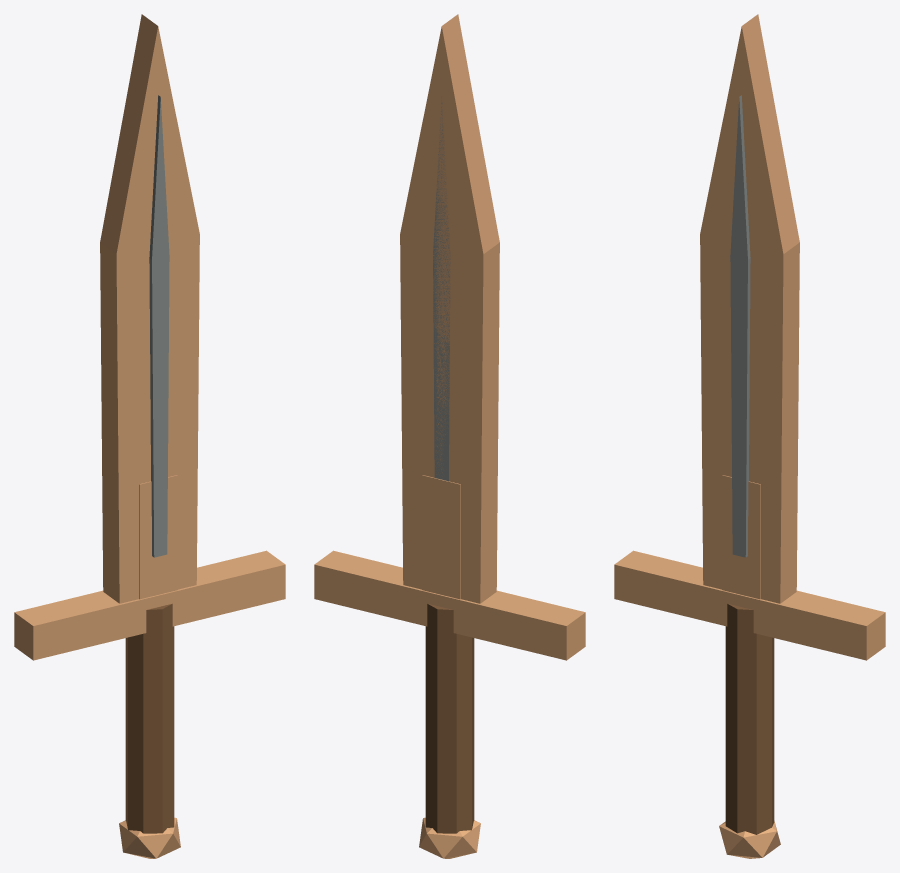
Rendered from copperSword.glb.
3 views of the same model, side by side, from view 1: azimuth 30°, elevation 25°; view 2: azimuth 150°, elevation 25°; view 3: azimuth 330°, elevation 25° (orthographic).
Visible parts, largest first — view 1: Blade, Guard, Grip, BladeRidge, BladeTang, Pommel; view 2: Blade, Guard, Grip, BladeRidge, BladeTang, Pommel; view 3: Blade, Guard, Grip, BladeRidge, BladeTang, Pommel.
Boxes of the visible parts, x1=… form: Blade: x1=100, y1=14, x2=199, y2=603; Guard: x1=14, y1=550, x2=285, y2=660; Grip: x1=125, y1=603, x2=174, y2=833; BladeRidge: x1=149, y1=95, x2=169, y2=557; BladeTang: x1=139, y1=475, x2=177, y2=599; Pommel: x1=119, y1=817, x2=180, y2=858; Blade: x1=400, y1=14, x2=499, y2=603; Guard: x1=314, y1=550, x2=585, y2=660; Grip: x1=425, y1=603, x2=474, y2=833; BladeRidge: x1=433, y1=97, x2=450, y2=481; BladeTang: x1=422, y1=475, x2=460, y2=599; Pommel: x1=419, y1=817, x2=480, y2=858; Blade: x1=700, y1=14, x2=799, y2=603; Guard: x1=614, y1=550, x2=885, y2=660; Grip: x1=725, y1=603, x2=774, y2=834; BladeRidge: x1=730, y1=95, x2=750, y2=557; BladeTang: x1=722, y1=475, x2=760, y2=599; Pommel: x1=719, y1=821, x2=780, y2=858.
Bounding box in the file's own units: 0.46 × 1.46 × 0.0936.
